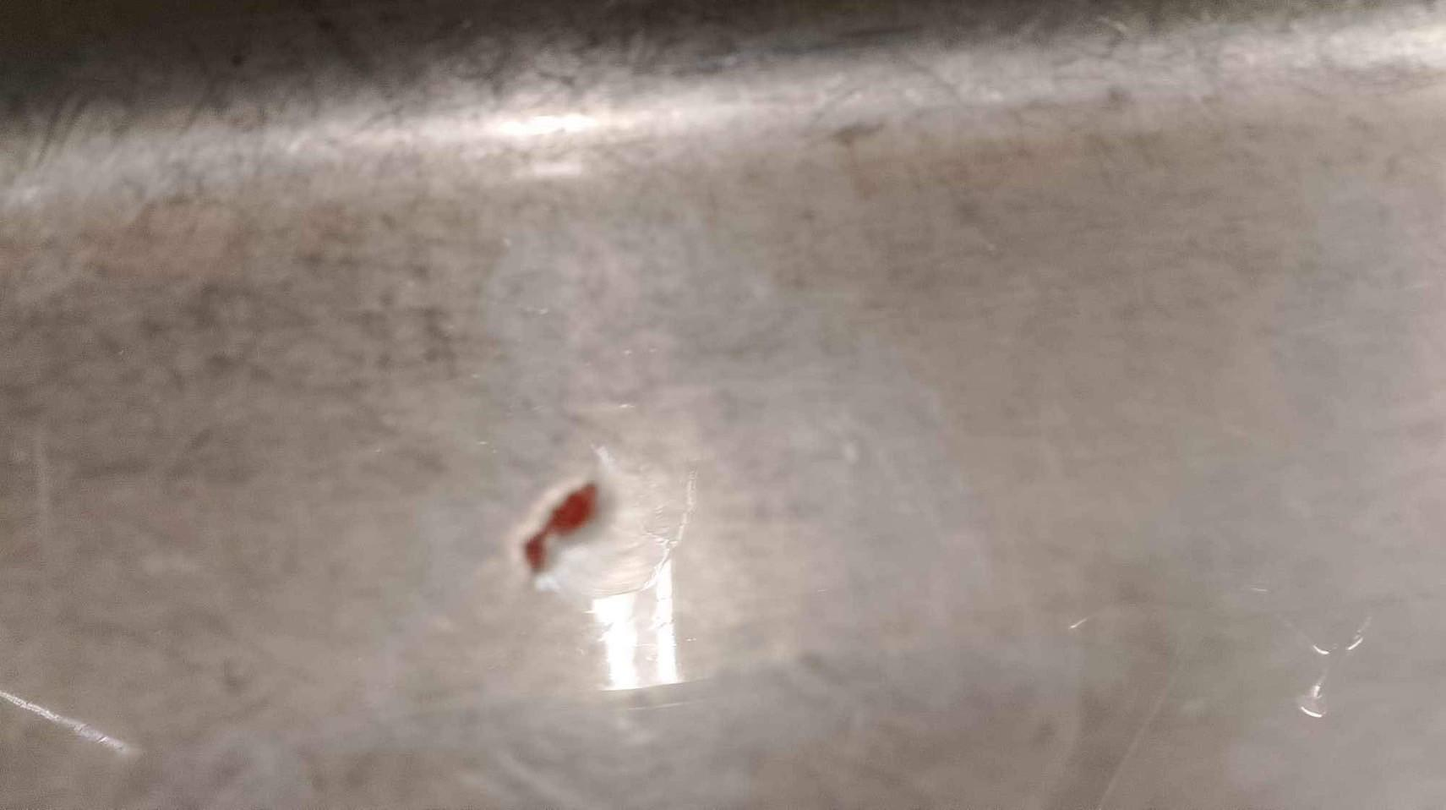General: (4, 5, 1438, 805), (508, 426, 705, 696)
Sharps: (518, 475, 600, 578)
